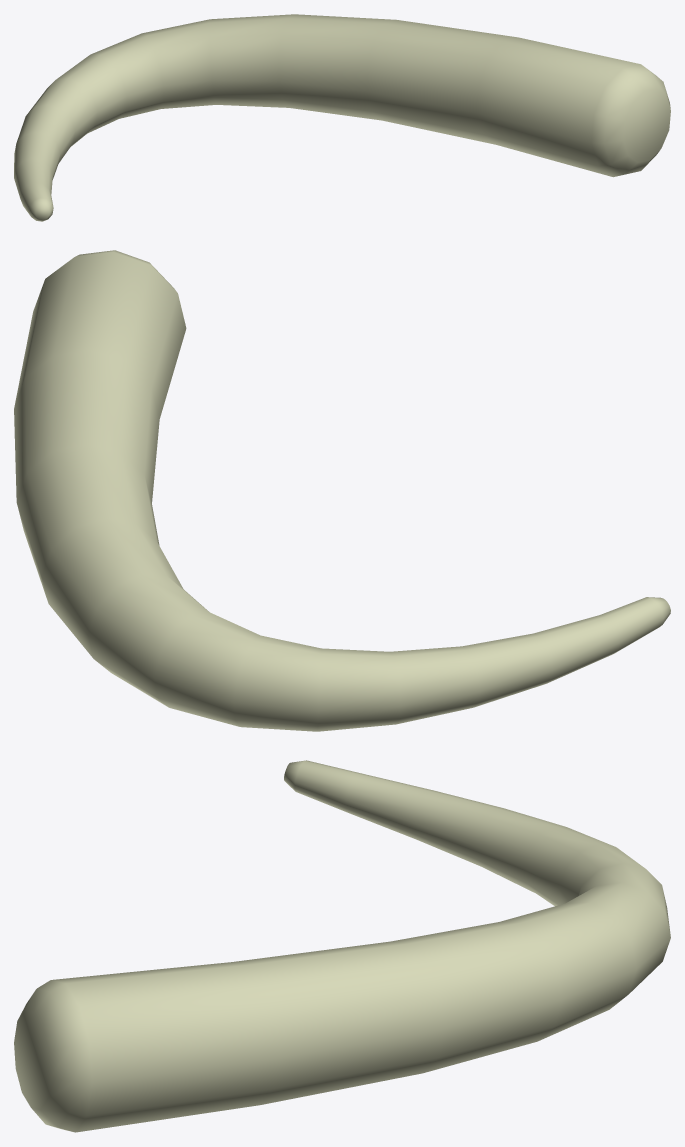
File: SM_ArenaBoundary_Tusk.fbx
3 views of the same model, one above another, from view 1: azimuth 30°, elevation 25°; view 2: azimuth 150°, elevation 25°; view 3: azimuth 270°, elevation 25° (orthographic). The views are drawn at different scales.
Visible parts, largest first — view 1: BasiliskArena_Bone_Var3; view 2: BasiliskArena_Bone_Var3; view 3: BasiliskArena_Bone_Var3.
Part boxes in pixels (x1=…): BasiliskArena_Bone_Var3: x1=14, y1=14, x2=670, y2=221; BasiliskArena_Bone_Var3: x1=14, y1=250, x2=670, y2=731; BasiliskArena_Bone_Var3: x1=14, y1=760, x2=670, y2=1132.
Bounding box in the file's own units: 218 × 47.44 × 167.
